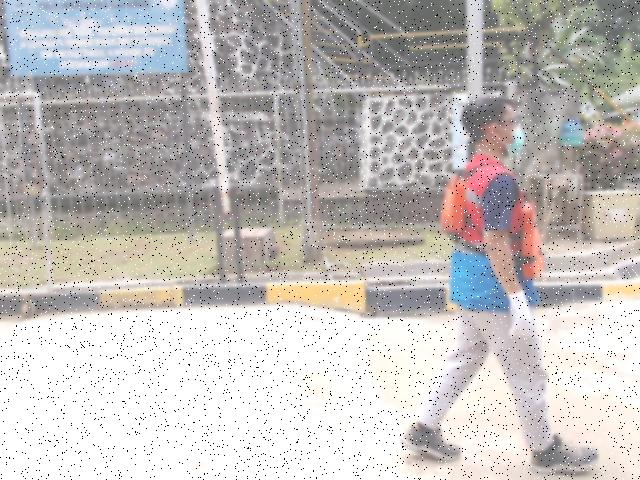glasses: (489, 115, 522, 128)
gloves: (505, 291, 535, 338)
mask: (505, 128, 525, 160)
safety-shoes: (530, 433, 600, 476), (399, 423, 463, 463)
vest: (441, 173, 547, 280)
